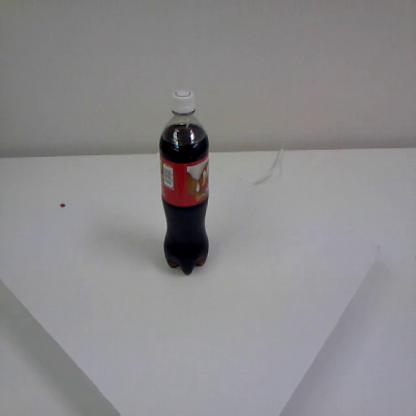bottle: (158, 87, 213, 277)
